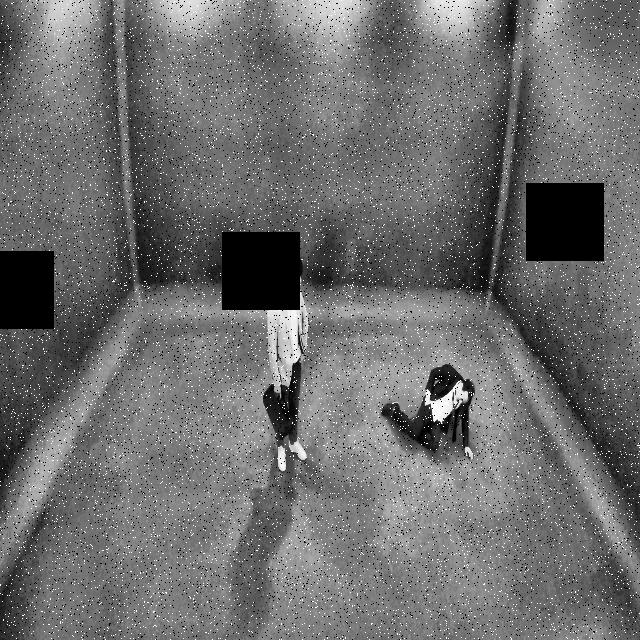assult: (263, 240, 476, 474), (377, 348, 473, 468)
